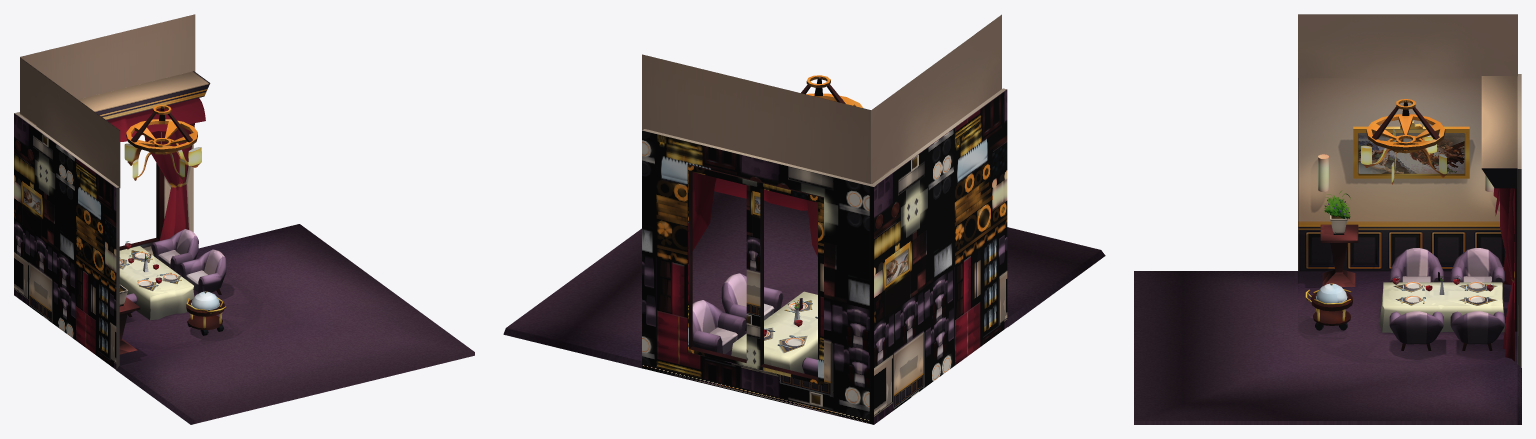
Rendered from Tx_Interior_Work_Restaurant_20170713.fbx.
The picture shows the model from 3 angles, left to right: view 1: azimuth 30°, elevation 25°; view 2: azimuth 150°, elevation 25°; view 3: azimuth 270°, elevation 25°; orthographic projection. The views are drawn at different scales.
Visible parts, largest first — view 1: Expanded_:Expand, Interior1, Lamp_Plant1; view 2: Interior1, Expanded_:Expand; view 3: Interior1, Expanded_:Expand, Lamp_Plant1.
Part boxes in pixels (<box>): Expanded_:Expand: <box>20,14,474,424</box>; Interior1: <box>14,71,292,369</box>; Lamp_Plant1: <box>124,132,201,283</box>; Interior1: <box>642,75,1007,424</box>; Expanded_:Expand: <box>503,14,1105,368</box>; Interior1: <box>1298,74,1521,367</box>; Expanded_:Expand: <box>1134,14,1521,424</box>; Lamp_Plant1: <box>1323,129,1493,291</box>.
Bounding box in the file's own units: 36.41 × 29.26 × 39.32.
Materials: 3 (3 with a texture image).
